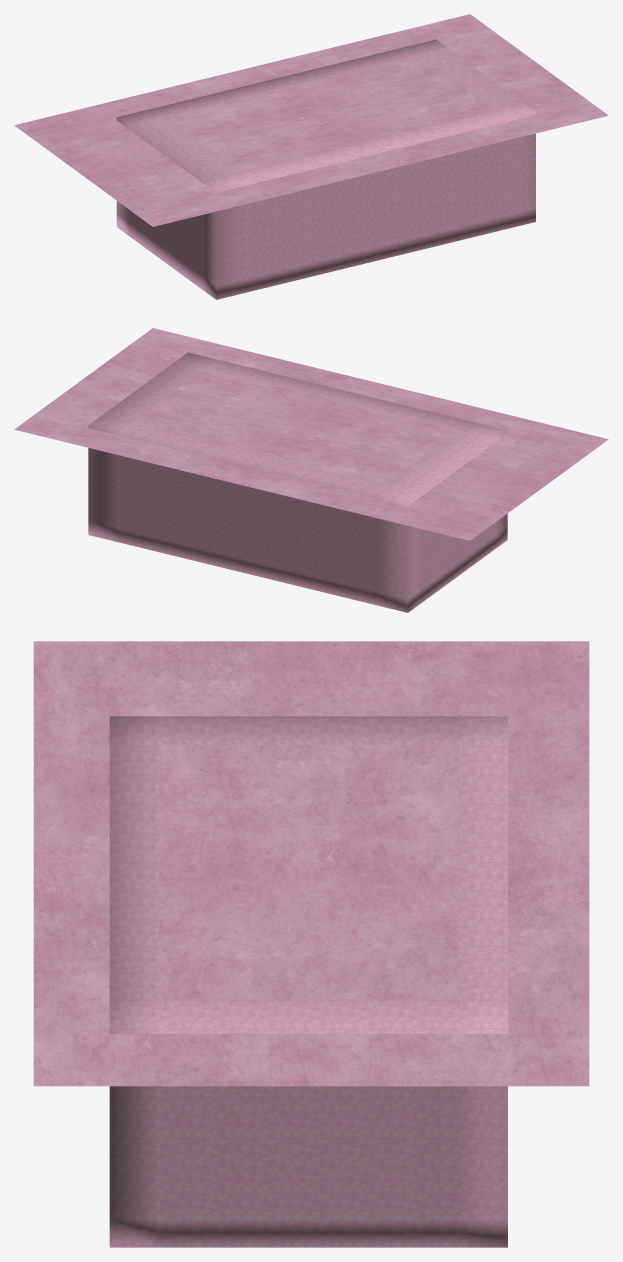
File: temp_krik_temp_texture.glb
3 renders of one model, top to bottom at view 1: azimuth 30°, elevation 25°; view 2: azimuth 150°, elevation 25°; view 3: azimuth 270°, elevation 25°, orthographic. The views are drawn at different scales.
Visible parts, largest first — view 1: roof, room; view 2: roof, room; view 3: roof, room.
Part boxes in pixels (x1,y1,x2,y2): roof: [14, 14, 608, 226]; room: [116, 39, 535, 299]; roof: [14, 328, 608, 540]; room: [88, 352, 507, 612]; roof: [33, 641, 589, 1086]; room: [109, 716, 507, 1247].
Size of the model in its own units: 30.39 by 8.02 by 16.03.
Materials: 26 (9 with a texture image).
